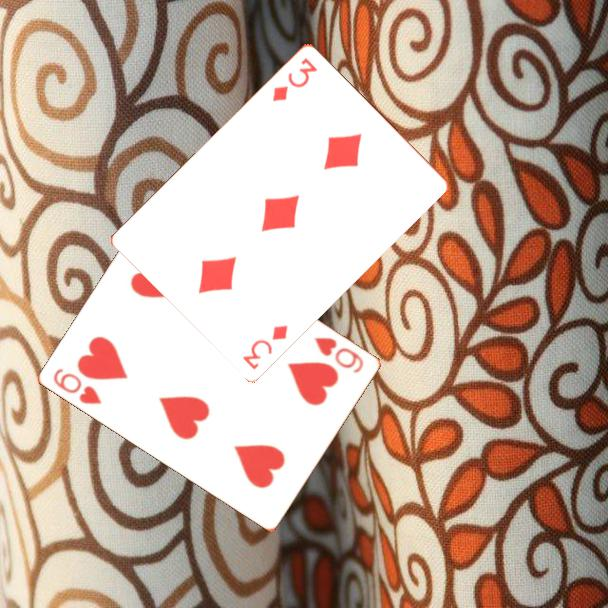d03: (239, 321, 291, 372), (269, 54, 321, 104)
h06: (311, 334, 367, 376), (50, 365, 105, 407)
